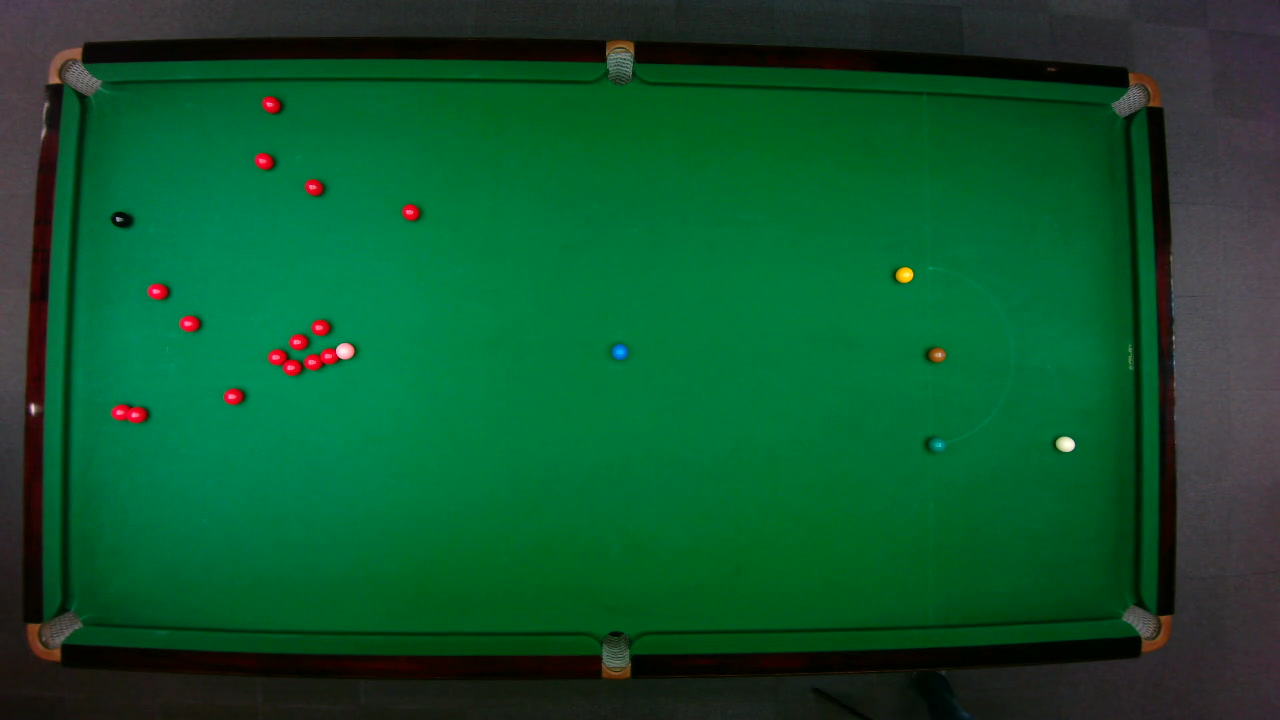bag: (25, 609, 83, 662), (45, 46, 102, 96), (1119, 603, 1171, 652), (1108, 71, 1161, 118), (600, 629, 630, 680), (605, 38, 633, 85)
black: (109, 210, 130, 228)
blue: (610, 342, 628, 360)
brown: (926, 346, 946, 362)
green: (926, 435, 946, 452)
pink: (334, 341, 355, 360)
red: (145, 281, 169, 300), (124, 404, 148, 423), (109, 402, 132, 421), (222, 386, 244, 405), (177, 314, 200, 332), (303, 177, 324, 196), (253, 151, 274, 170), (400, 202, 420, 221), (302, 352, 323, 370), (281, 358, 302, 376), (260, 95, 281, 113), (287, 332, 308, 350), (309, 318, 330, 335), (266, 348, 287, 365), (319, 346, 337, 365)
white: (1053, 434, 1076, 452)
yellow: (894, 265, 914, 283)
zone: (927, 266, 1014, 445)
